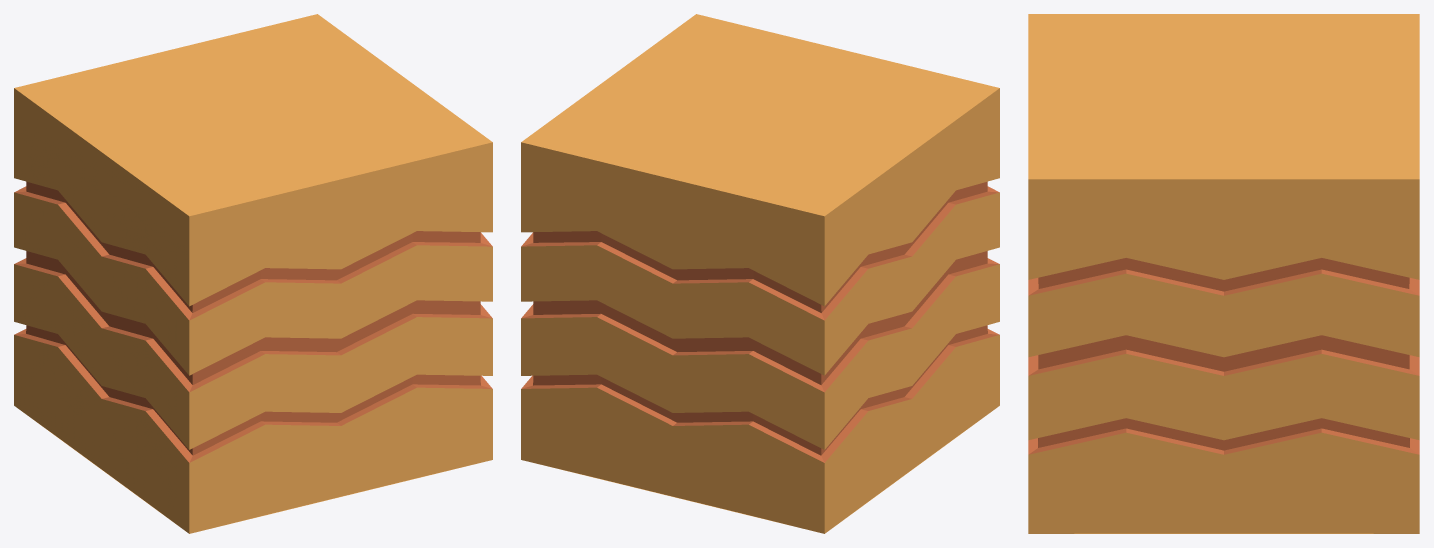
Rendered from grass_tile7.fbx.
3 renders of one model, left to right at view 1: azimuth 30°, elevation 25°; view 2: azimuth 150°, elevation 25°; view 3: azimuth 270°, elevation 25°, orthographic. The views are drawn at different scales.
Parts seen in each view (by area): view 1: Mesh; view 2: Mesh; view 3: Mesh.
Part boxes in pixels (x1,y1,x2,y2): Mesh: [14, 14, 492, 533]; Mesh: [521, 14, 999, 533]; Mesh: [1028, 14, 1419, 533].
Size of the model in its own units: 1 by 1 by 1.
